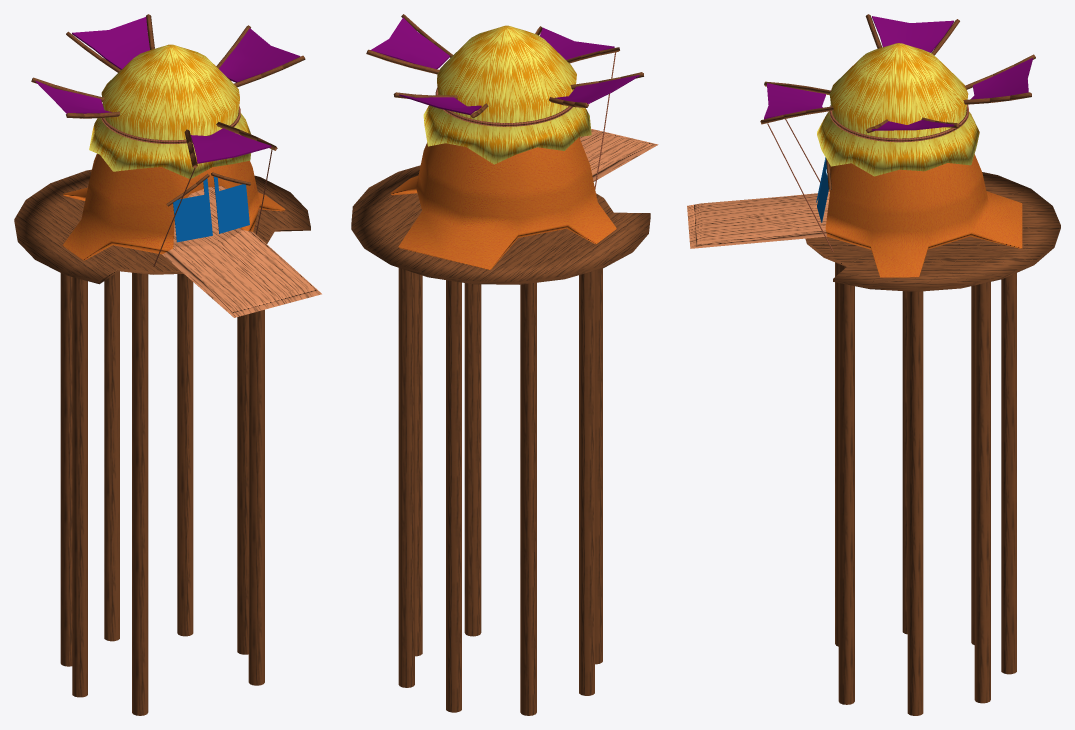
Rendered from MonsterHome.fbx.
3 renders of one model, left to right at view 1: azimuth 30°, elevation 25°; view 2: azimuth 150°, elevation 25°; view 3: azimuth 270°, elevation 25°, orthographic.
Visible parts, largest first — view 1: Deck, MonsterHouseMain2, Awning1, Doors; view 2: Deck, MonsterHouseMain2, Awning1; view 3: Deck, MonsterHouseMain2, Awning1.
Part boxes in pixels (box(x1,y1,x2,y2)): Deck: box(14, 169, 310, 715); MonsterHouseMain2: box(63, 44, 321, 317); Awning1: box(31, 14, 305, 266); Doors: box(166, 172, 251, 242); Deck: box(351, 165, 650, 715); MonsterHouseMain2: box(390, 25, 658, 269); Awning1: box(366, 14, 643, 189); Deck: box(805, 172, 1060, 715); MonsterHouseMain2: box(687, 43, 1022, 277); Awning1: box(760, 14, 1035, 251).
Bounding box in the file's own units: 13.24 × 30.97 × 16.73.
